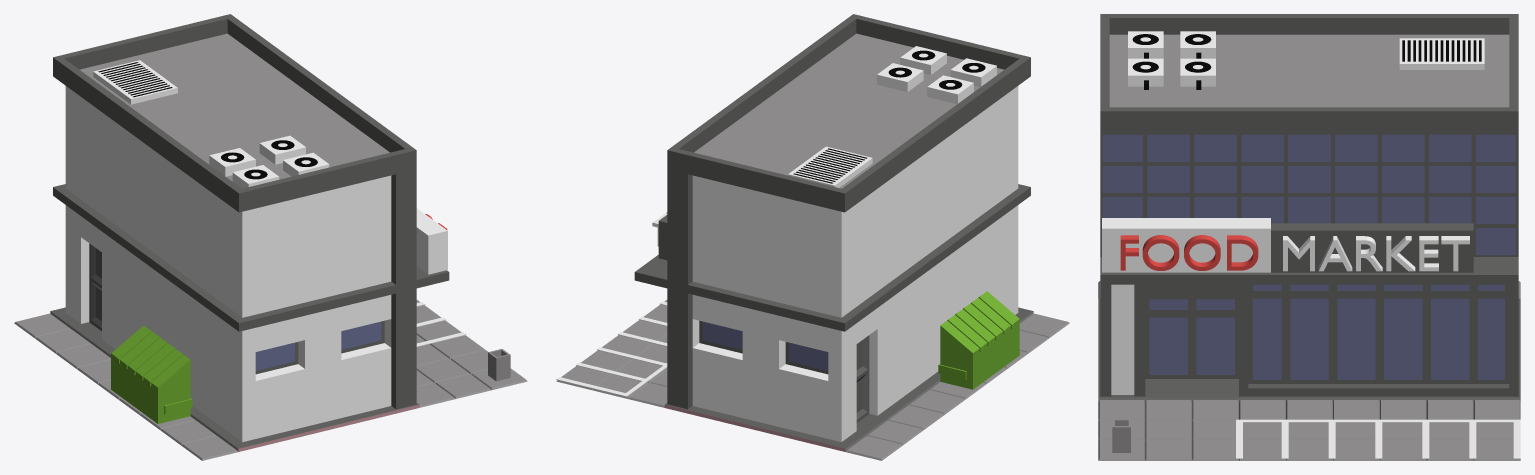
Rendered from FoodMarket.fbx.
The picture shows the model from 3 angles, left to right: view 1: azimuth 30°, elevation 25°; view 2: azimuth 150°, elevation 25°; view 3: azimuth 270°, elevation 25°; orthographic projection. The views are drawn at different scales.
Visible parts, largest first — view 1: Building_E; view 2: Building_E; view 3: Building_E.
Part boxes in pixels (<box>): Building_E: <box>14,14,527,460</box>; Building_E: <box>556,14,1069,460</box>; Building_E: <box>1098,14,1520,460</box>.
Size of the model in its own units: 2000 by 1512 by 2000.
